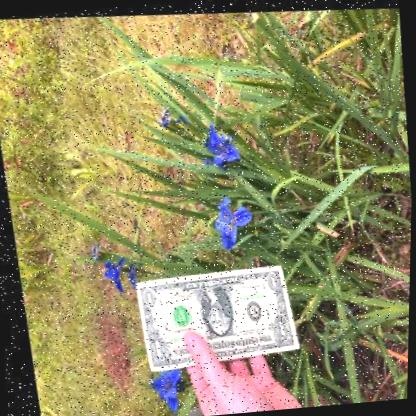one-front: (131, 260, 296, 370)
